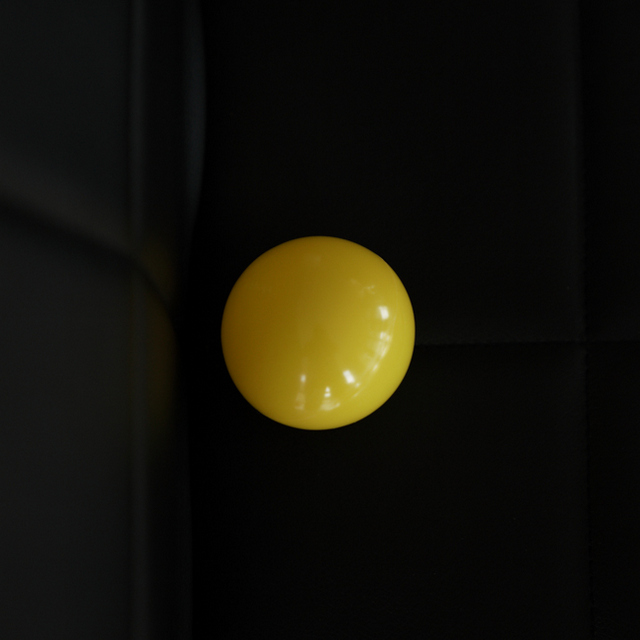Ball: (216, 237, 417, 428)
